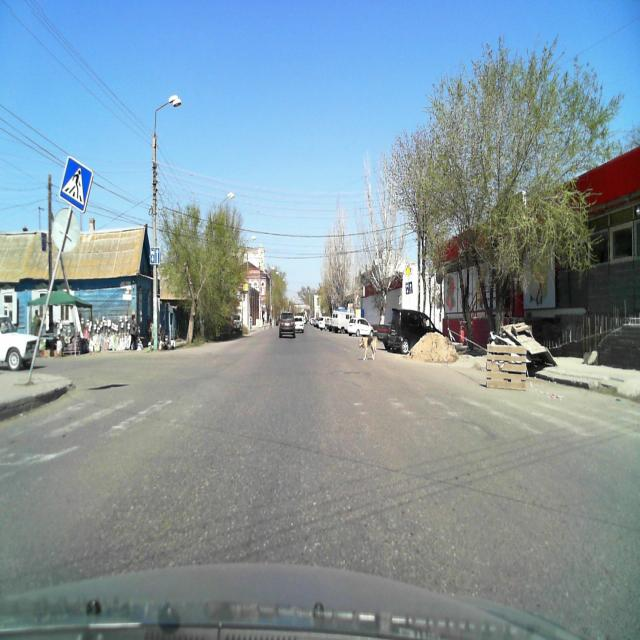road sign: (58, 155, 94, 212), (150, 247, 160, 265), (404, 263, 412, 280), (404, 281, 413, 295)
